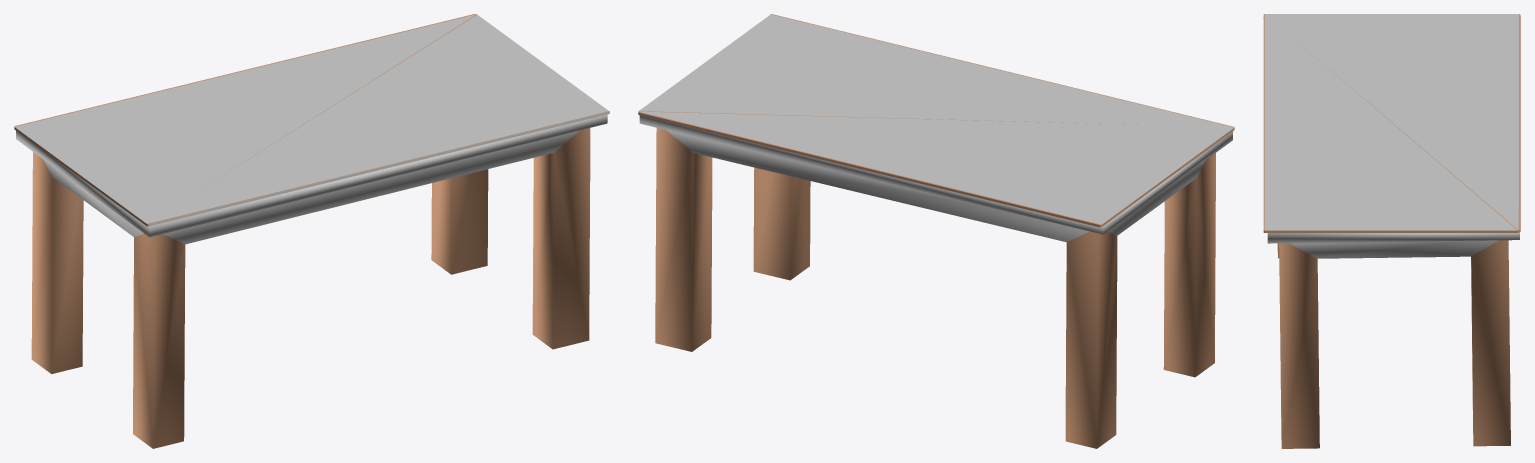
Rendered from physicsTables_Nov19.glb.
3 renders of one model, left to right at view 1: azimuth 30°, elevation 25°; view 2: azimuth 150°, elevation 25°; view 3: azimuth 270°, elevation 25°, orthographic. The views are drawn at different scales.
Parts seen in each view (by area): view 1: physicsTable; view 2: physicsTable; view 3: physicsTable.
Boxes of the visible parts, box(x1,y1,x2,y2) form: physicsTable: box(14, 14, 609, 448); physicsTable: box(638, 14, 1234, 448); physicsTable: box(1263, 14, 1520, 448).
Size of the model in its own units: 1.52 by 0.732 by 0.762.
